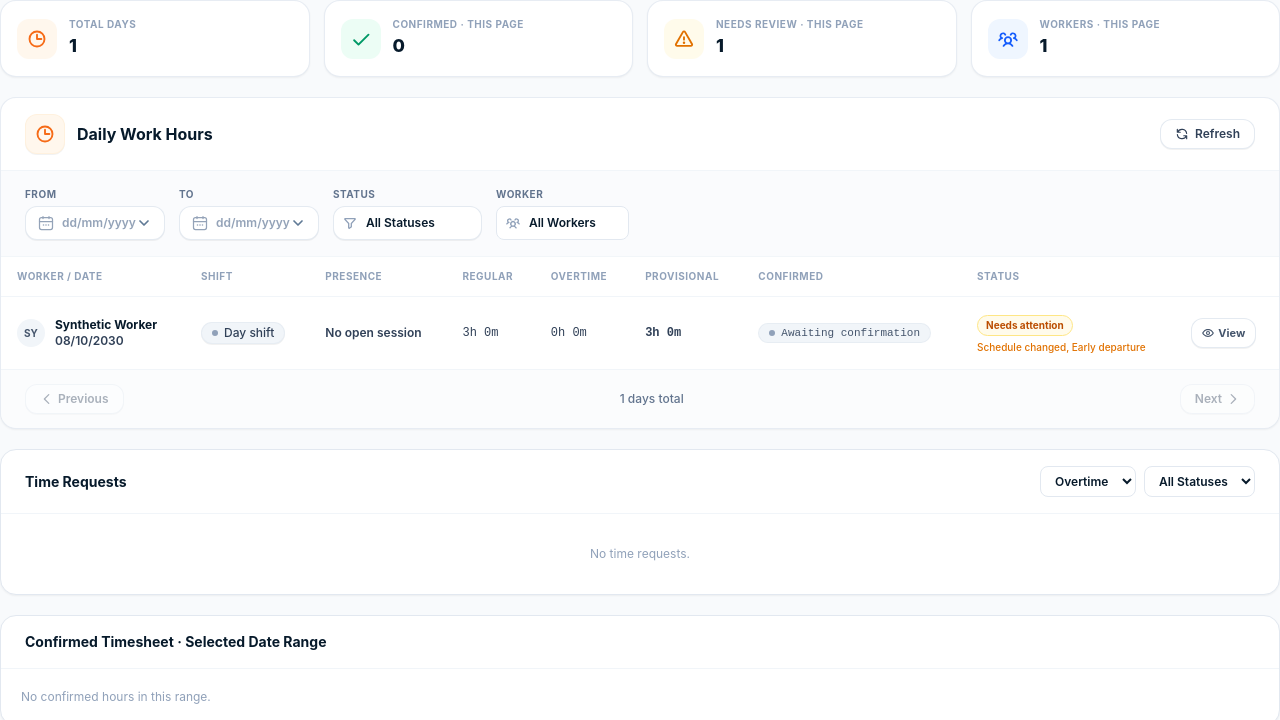
Test: MF03 interactive UI › compares a changed schedule with the original shift and blocks early-departure confirmation
Click the button "View" at x=1224, y=333, box [1191, 318, 1256, 348]
(page scrolled)
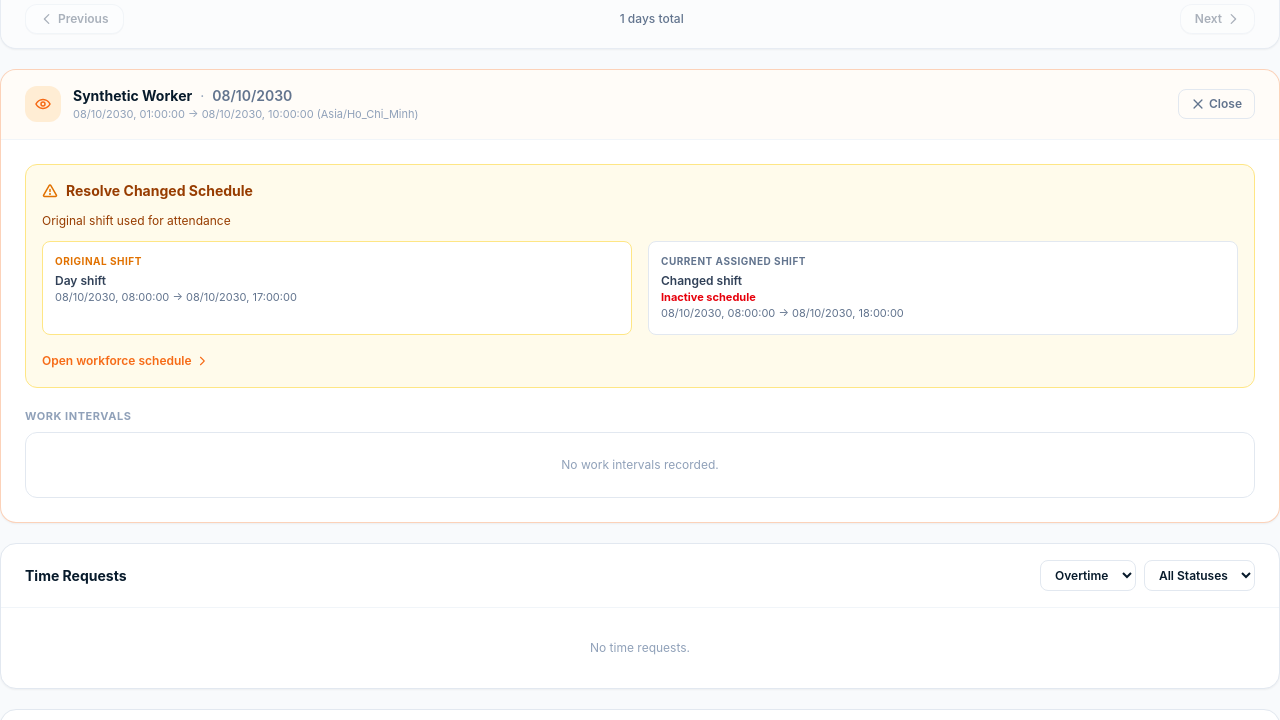
Now the text "Changed shift" is shown, box [661, 272, 742, 288]
Now the text "Inactive schedule" is shown, box [661, 290, 756, 304]
Now the text "Original shift used for attendance" is shown, box [42, 212, 231, 228]
